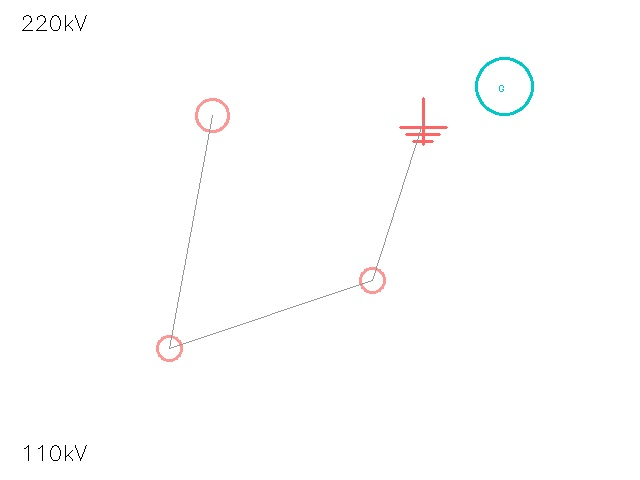disconnect_switch: (347, 255, 397, 305)
generator: (476, 58, 532, 114)
ground: (400, 98, 446, 144)
load_break_switch: (180, 83, 244, 147), (145, 324, 193, 372)
